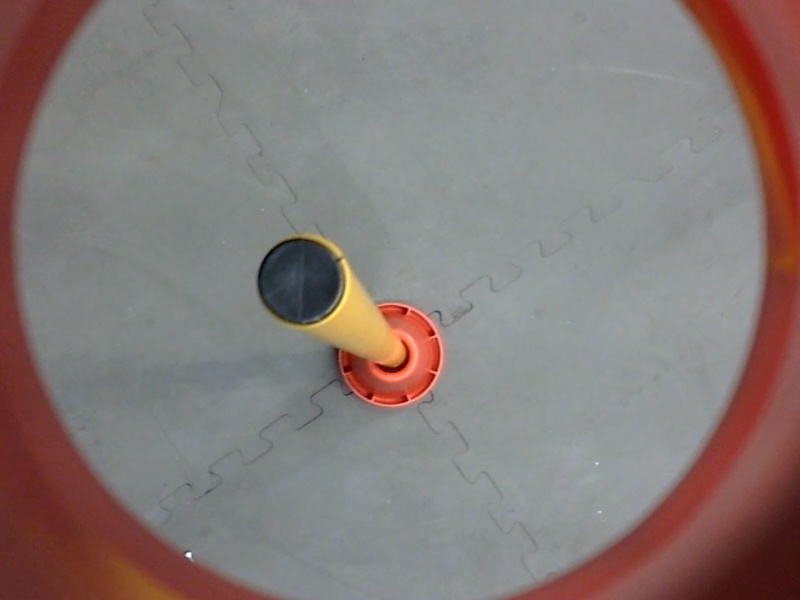tip: (248, 225, 356, 342)
